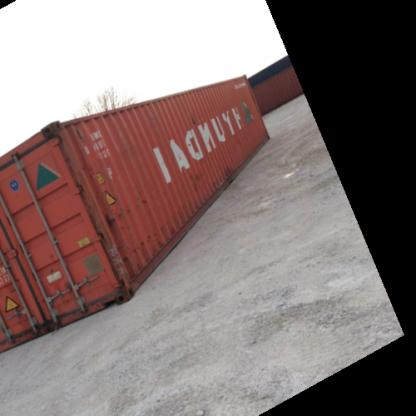Damage: (103, 189, 154, 229), (119, 228, 161, 263), (42, 247, 61, 289), (206, 160, 234, 188), (174, 162, 204, 188), (186, 108, 202, 126)
